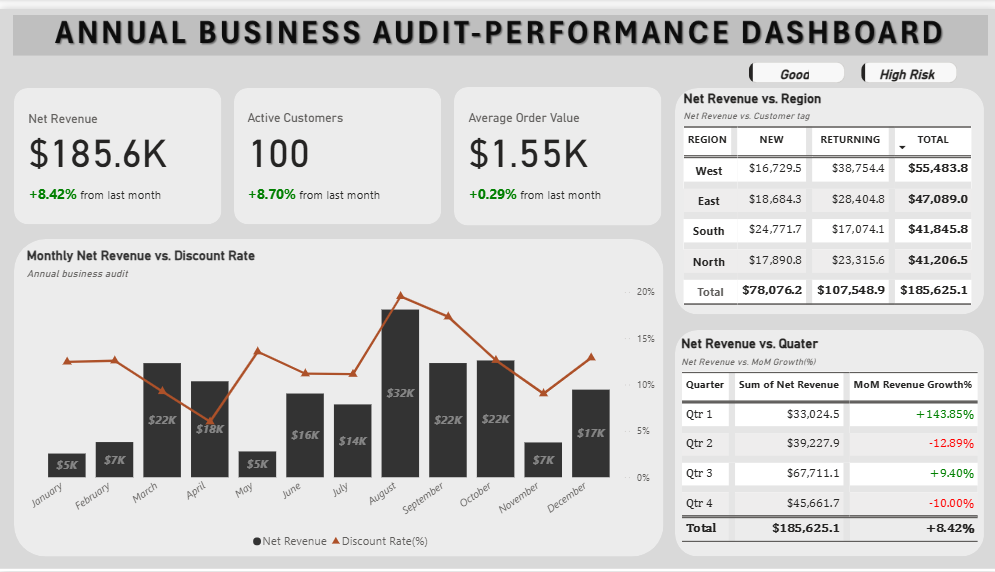

The page's visual inventory and layout, read from the dashboard file:
{"tool":"powerbi","page":{"name":"Page 1","canvas":[1280,720],"ordinal":0},"visuals":[{"type":"shape","box":[582.2,100.5,266,177.5],"z":0},{"type":"shape","box":[865.7,101.8,396.4,290.4],"z":1000},{"type":"shape","box":[17.9,294.5,832.7,407.4],"z":2000},{"type":"shape","box":[865.7,411.5,396.4,290.4],"z":3000},{"type":"shape","box":[300,101.8,265.6,174.8],"z":4000},{"type":"shape","box":[17.9,101.8,266,174.8],"z":5000},{"type":"cardVisual","fields":{"Data":["Sum(Task 1.Net Revenue)"]},"box":[19.3,102.3,264.9,173.4],"z":6000},{"type":"lineClusteredColumnComboChart","title":"Monthly Net Revenue vs. Discount Rate","fields":{"Category":["Task 1.Tx Date .Variation.Date Hierarchy.Month"],"Y":["Sum(Task 1.Net Revenue)"],"Y2":["Task 1.Discount Rate"]},"box":[19.3,293.2,828.6,407.4],"z":7000},{"type":"cardVisual","fields":{"Data":["Task 1.AOV"]},"box":[582.7,99.9,264.9,177],"z":8000},{"type":"cardVisual","fields":{"Data":["Task 1.Active Customer Count"]},"box":[299.8,101.1,266.1,175.8],"z":9000},{"type":"pivotTable","title":"Net Revenue vs. Region ","fields":{"Rows":["Task 1.Region "],"Columns":["Task 1.Customer Tag"],"Values":["Sum(Task 1.Net Revenue)"]},"box":[865.9,101.7,396.1,290.4],"z":10000},{"type":"tableEx","title":"Net Revenue vs. Quater","fields":{"Values":["Task 1.Tx Date .Variation.Date Hierarchy.Quarter","Sum(Task 1.Net Revenue)","Task 1.MoM Revenue Growth%"]},"box":[865.9,412.2,396.1,289.1],"z":11000},{"type":"advancedSlicerVisual","fields":{"Values":["Task 1.Risk Flag"]},"box":[955.5,62.9,278.4,37.5],"z":12000}]}

Visuals, with their boxes in screenshot pixels (x1, y1, x2, y2), scaled from the page's 1280x720 canvas onto the 995x572 screenshot:
shape: crop(453, 80, 659, 221)
shape: crop(673, 81, 981, 312)
shape: crop(14, 234, 661, 558)
shape: crop(673, 327, 981, 558)
shape: crop(233, 81, 440, 220)
shape: crop(14, 81, 221, 220)
cardVisual - Sum(Task 1.Net Revenue): crop(15, 81, 221, 219)
"Monthly Net Revenue vs. Discount Rate" lineClusteredColumnComboChart: crop(15, 233, 659, 557)
cardVisual - Task 1.AOV: crop(453, 79, 659, 220)
cardVisual - Task 1.Active Customer Count: crop(233, 80, 440, 220)
"Net Revenue vs. Region " pivotTable: crop(673, 81, 981, 312)
"Net Revenue vs. Quater" tableEx: crop(673, 327, 981, 557)
advancedSlicerVisual - Task 1.Risk Flag: crop(743, 50, 959, 80)
